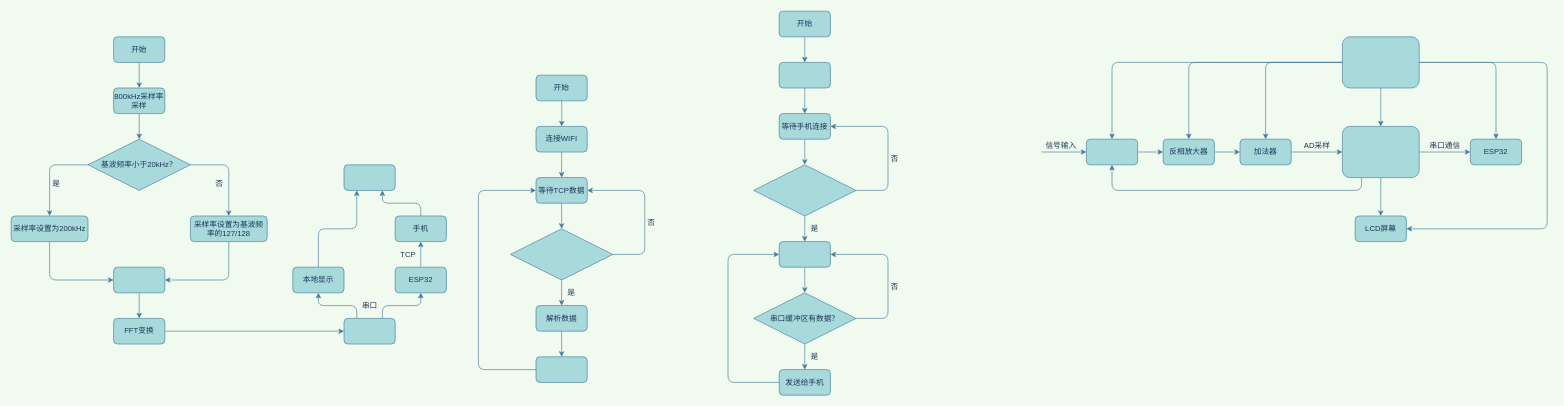
The diagram is 1564 pixels wide and 406 high, and some of its shapes have lost their labels. Here are the shapes that lost their labels. From the top down, the centre of each, then its label:
At pixel 804 75: "创建WIFI热点".
At pixel 1380 62: "稳压电源".
At pixel 1112 152: "程控放大器".
At pixel 1380 152: "MSP432E401Y".
At pixel 369 177: "结束".
At pixel 804 190: "手机是否连接？".
At pixel 561 254: "TCP缓冲区有数据？".
At pixel 804 254: "等待串口数据".
At pixel 139 280: "重新采样".
At pixel 369 331: "计算THD和归一化幅值".
At pixel 561 369: "更新GUI".
